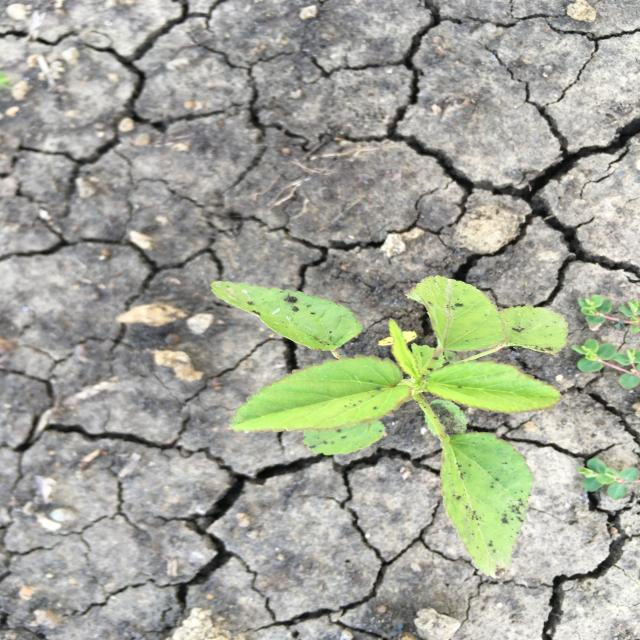PricklySida: (207, 273, 572, 582)
SpottedSpurge: (571, 294, 639, 498)
